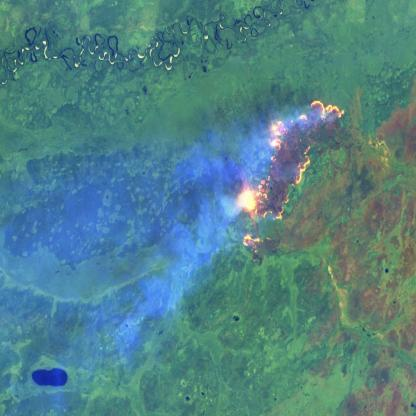fire: (232, 94, 350, 256)
